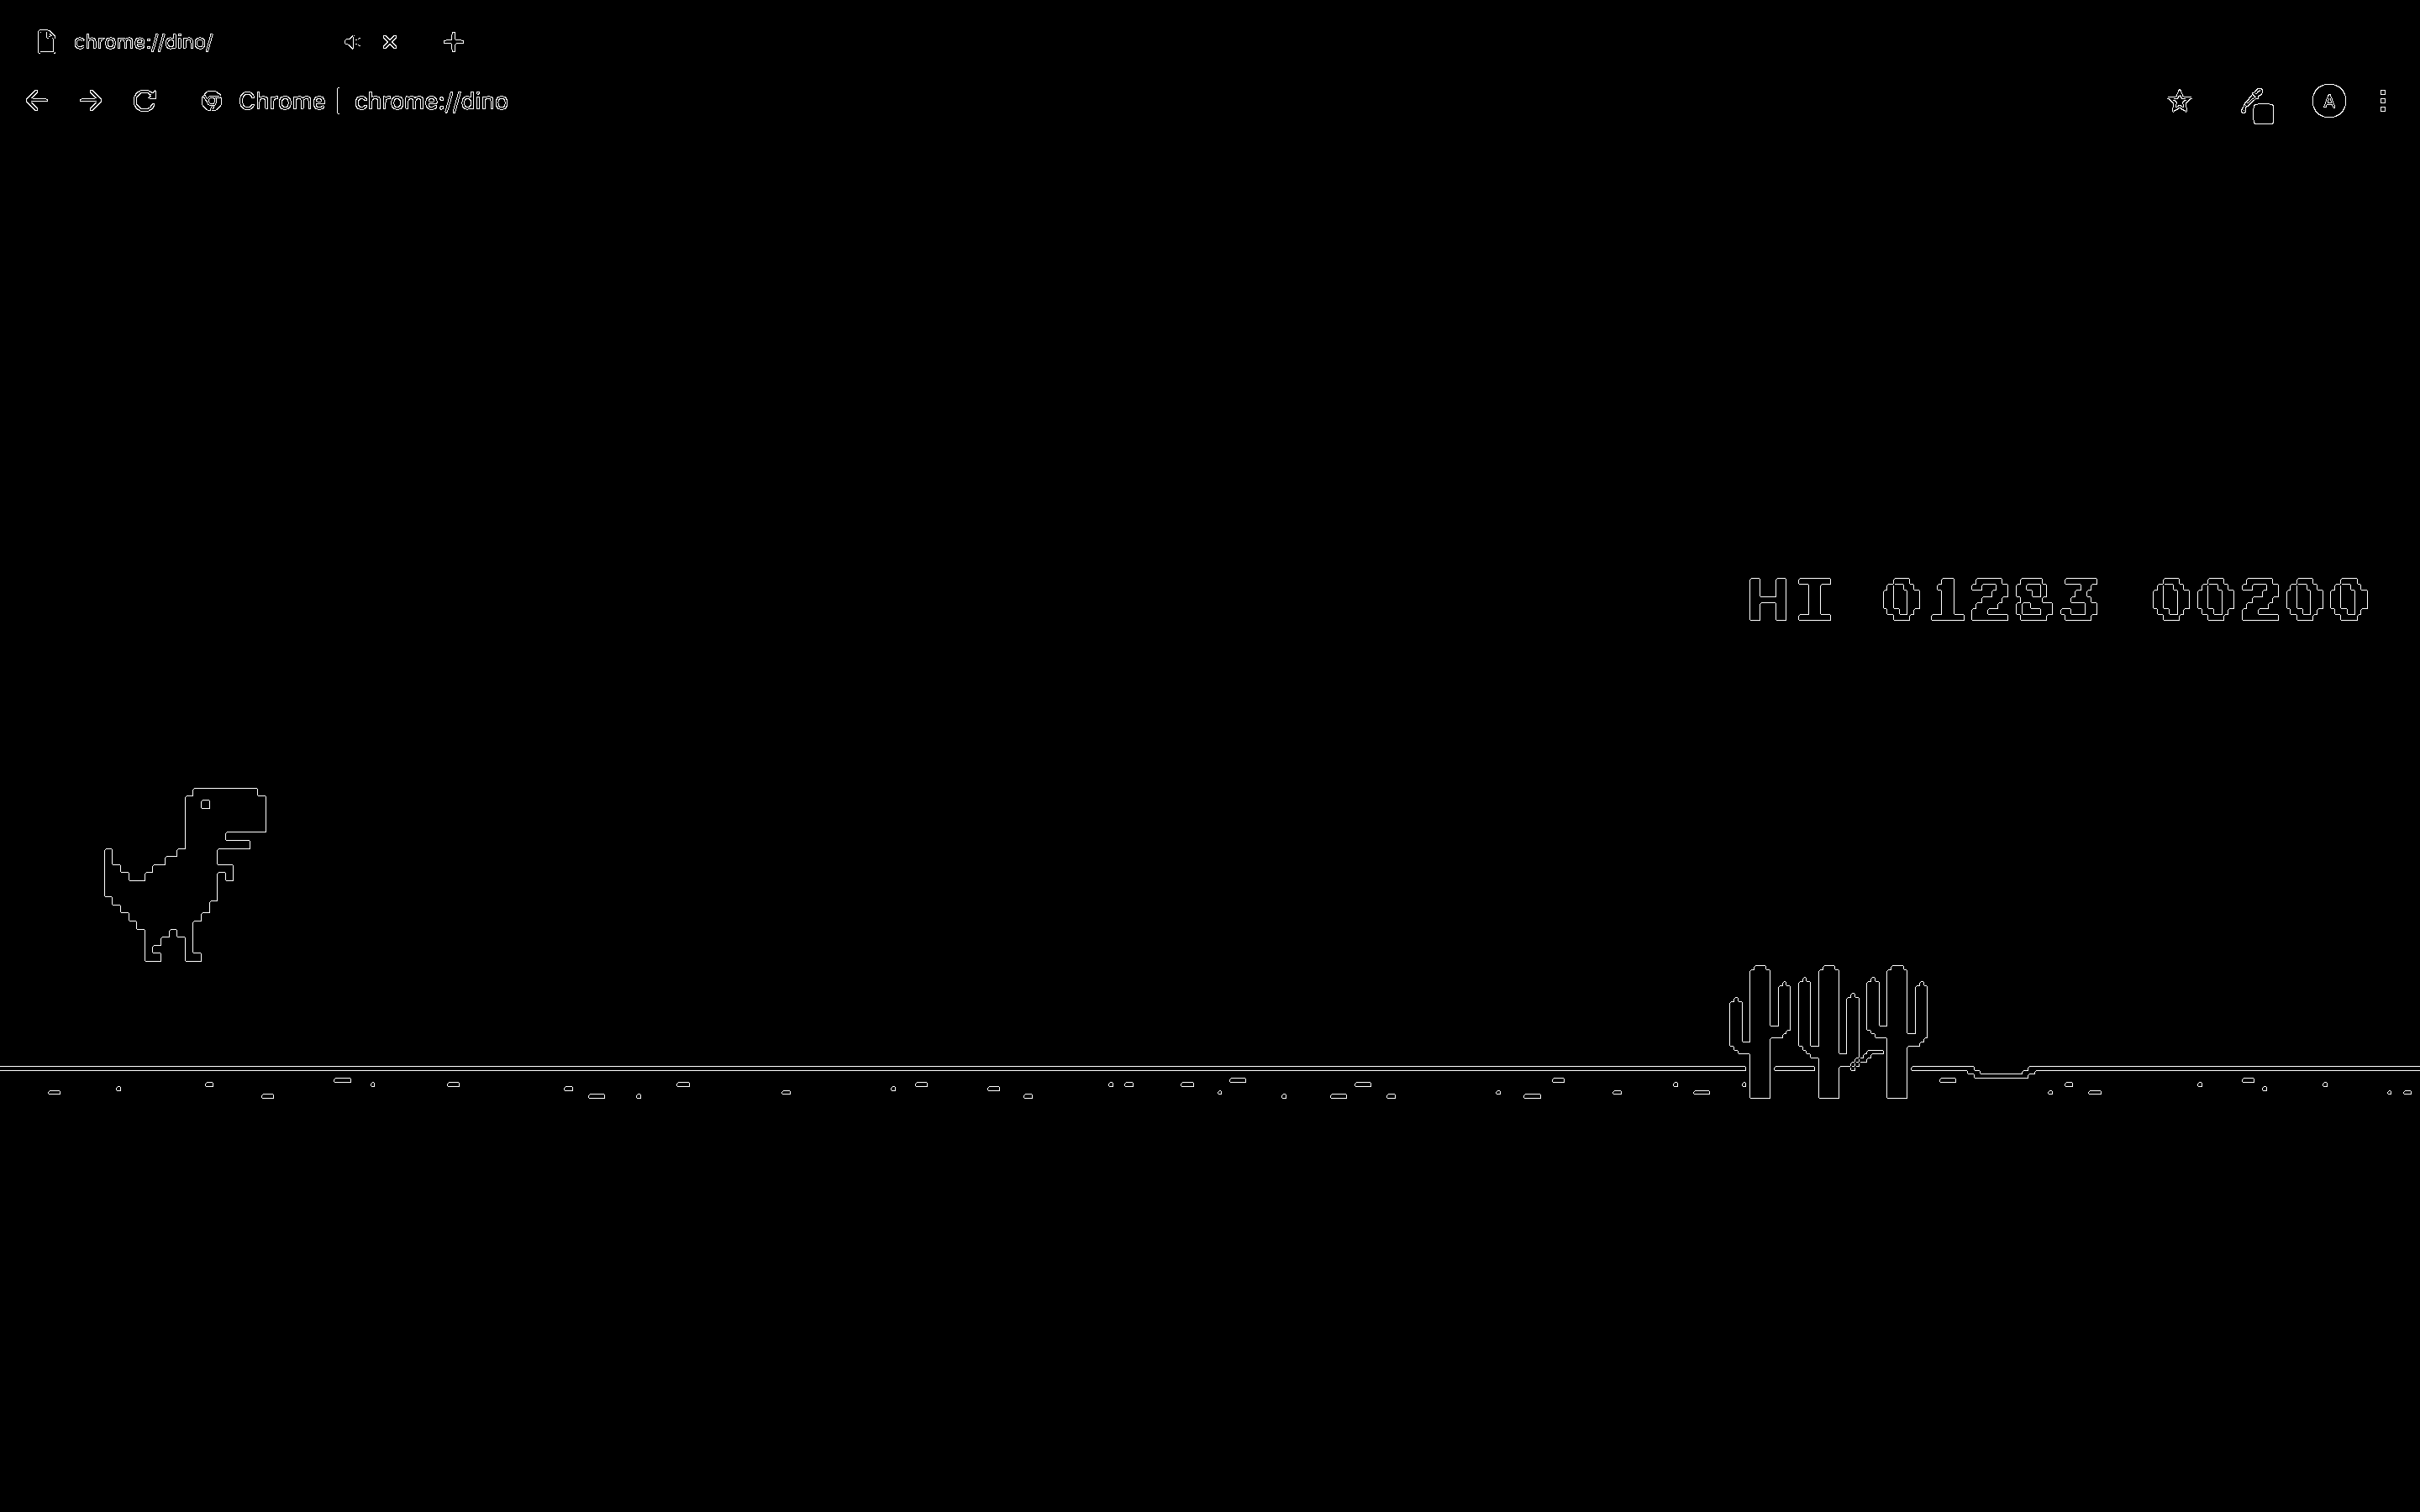Cactus: (1796, 965, 1866, 1104), (1723, 967, 1793, 1097), (1871, 965, 1934, 1104)
Dino: (108, 780, 274, 967)
